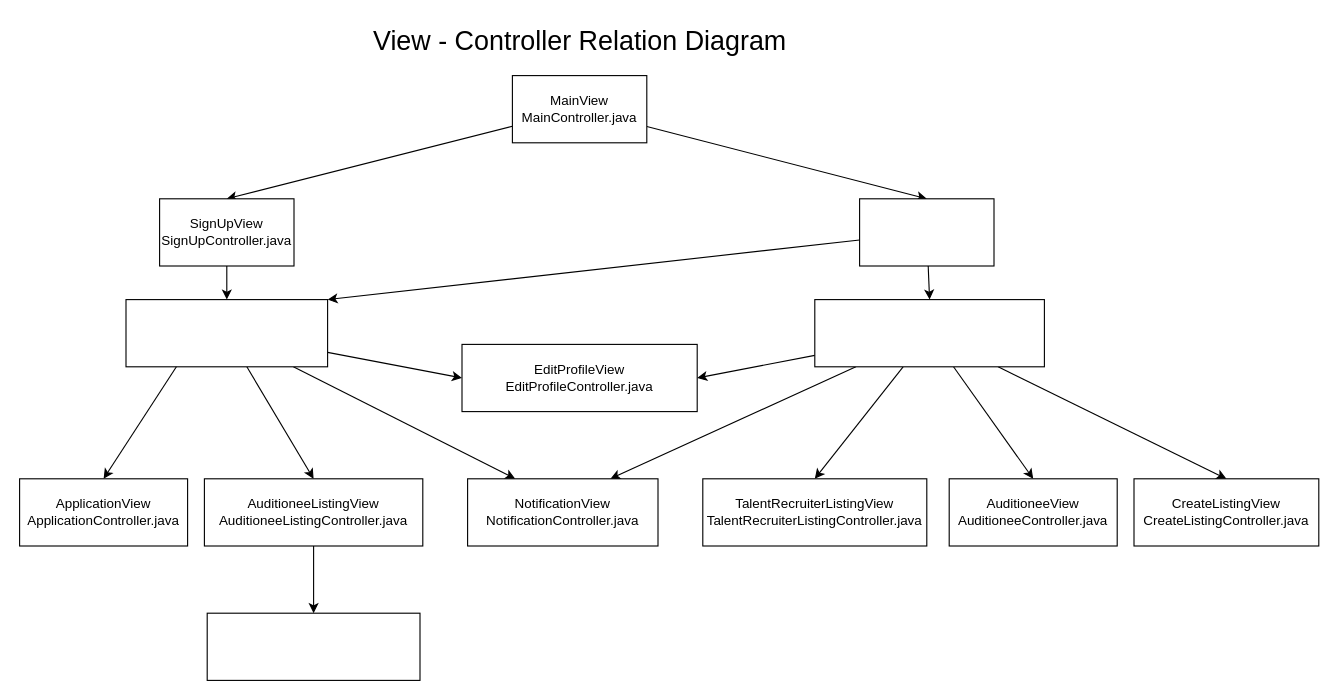
Image size: 1338x700. Some labels were removed from this diagram. Each missing label, with the box of its shape:
AuditioneeHomeView AuditioneeHomeController.java: (125, 298, 328, 367)
CreateApplicationView CreateApplicationController.java: (206, 612, 420, 680)
SignInView SignInController.java: (858, 198, 994, 266)
TalentRecruiterHomeView TalentRecruiterHomeController.java: (814, 298, 1044, 367)
